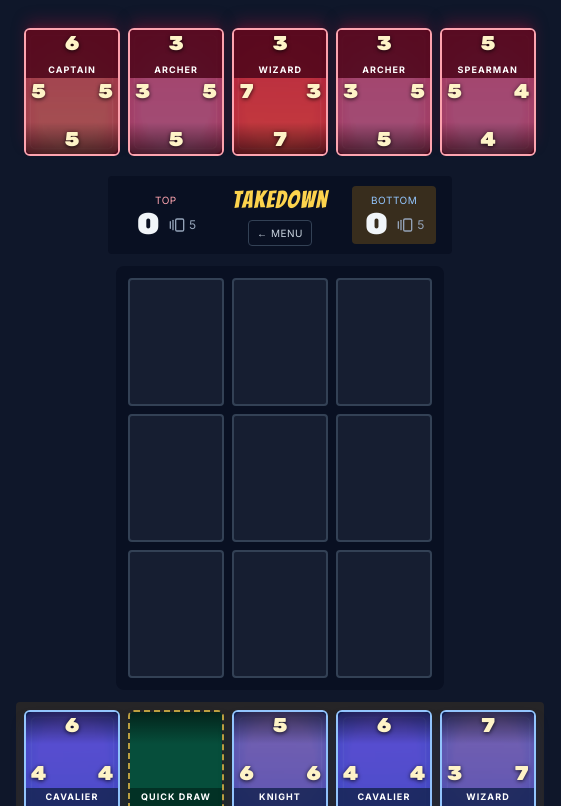
Menu › "← Menu" button on the game screen returns to the menu
The image size is (561, 806).
Click the button "← Menu" at (280, 233), box [248,220,312,246]
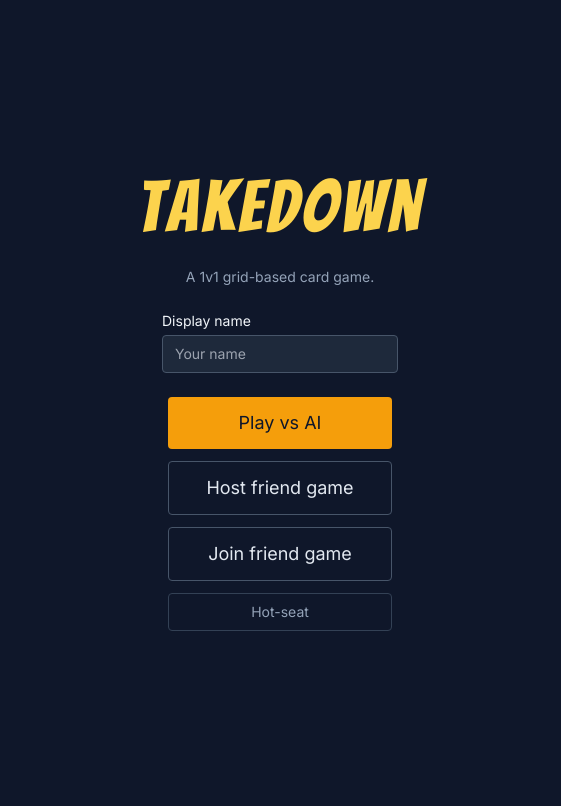
Expected: the button "Play vs AI" is shown, [168,397,392,449]
